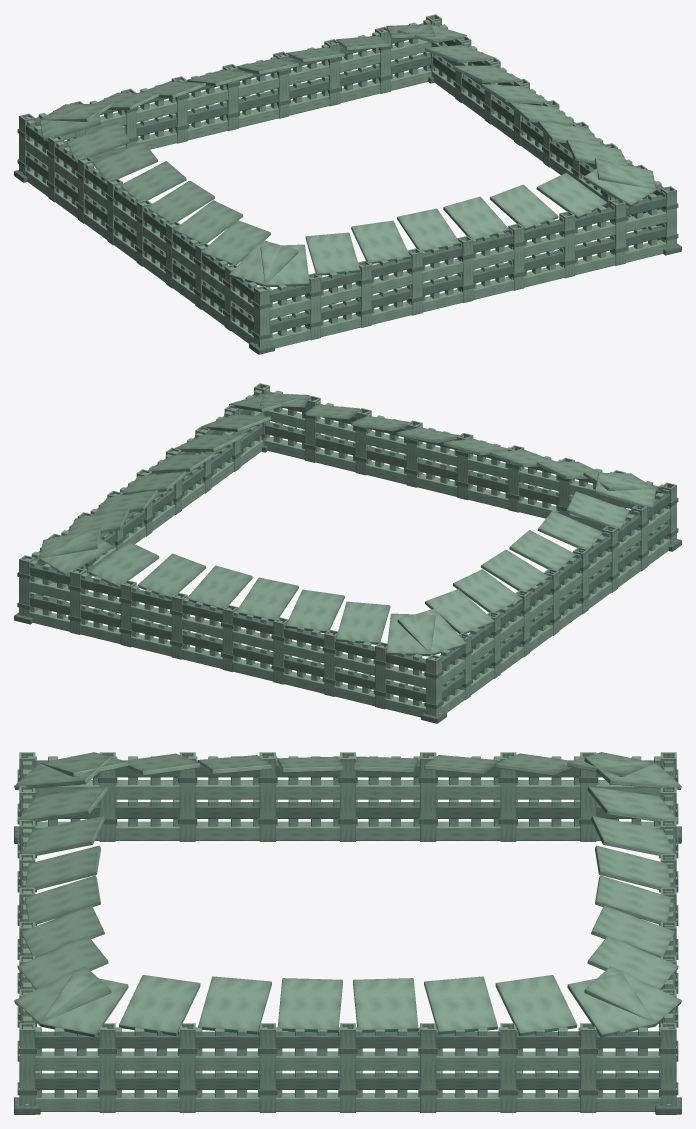
3 renders of one model, top to bottom at view 1: azimuth 30°, elevation 25°; view 2: azimuth 150°, elevation 25°; view 3: azimuth 270°, elevation 25°, orthographic. The views are drawn at different scales.
Parts seen in each view (by area): view 1: Crown alloy petal 0-1, Crown alloy petal 0-2, Crown alloy petal 0-3, Crown alloy petal 0-4, Crown alloy petal 3-6, Crown alloy petal 0-5, Crown alloy petal 0-6, Crown alloy petal 3-5, Crown alloy petal 3-4, Crown alloy petal 0-0, Crown alloy petal 3-3, Crown alloy petal 3-7 (+59 smaller); view 2: Crown alloy petal 2-6, Crown alloy petal 2-5, Crown alloy petal 2-4, Crown alloy petal 2-3, Crown alloy petal 3-1, Crown alloy petal 2-1, Crown alloy petal 2-2, Crown alloy petal 3-2, Crown alloy petal 3-3, Crown alloy petal 2-7, Crown alloy petal 3-4, Crown alloy petal 3-5 (+59 smaller); view 3: Crown alloy petal 1-1, Crown alloy petal 1-6, Crown alloy petal 1-5, Crown alloy petal 1-2, Crown alloy petal 1-4, Crown alloy petal 1-3, Crown alloy petal 1-7, Crown alloy petal 1-0, Crown alloy petal 0-6, Crown alloy petal 2-1, Crown alloy petal 2-2, Crown alloy petal 0-5 (+86 smaller).
Boxes of the visible parts, bbox=[...] form: Crown alloy petal 0-1: bbox=[305, 232, 359, 275]; Crown alloy petal 0-2: bbox=[351, 220, 410, 263]; Crown alloy petal 0-3: bbox=[397, 208, 459, 252]; Crown alloy petal 0-4: bbox=[443, 196, 509, 240]; Crown alloy petal 3-6: bbox=[201, 220, 270, 264]; Crown alloy petal 0-5: bbox=[490, 184, 558, 230]; Crown alloy petal 0-6: bbox=[536, 172, 607, 218]; Crown alloy petal 3-5: bbox=[174, 200, 243, 243]; Crown alloy petal 3-4: bbox=[147, 180, 214, 222]; Crown alloy petal 0-0: bbox=[260, 244, 309, 287]; Crown alloy petal 3-3: bbox=[120, 161, 186, 201]; Crown alloy petal 3-7: bbox=[229, 240, 298, 285]; Crown alloy petal 2-6: bbox=[336, 601, 390, 644]; Crown alloy petal 2-5: bbox=[285, 589, 344, 633]; Crown alloy petal 2-4: bbox=[236, 577, 298, 621]; Crown alloy petal 2-3: bbox=[187, 565, 252, 610]; Crown alloy petal 3-1: bbox=[425, 589, 494, 633]; Crown alloy petal 2-1: bbox=[88, 541, 159, 587]; Crown alloy petal 2-2: bbox=[137, 553, 205, 599]; Crown alloy petal 3-2: bbox=[452, 569, 521, 612]; Crown alloy petal 3-3: bbox=[481, 549, 549, 591]; Crown alloy petal 2-7: bbox=[386, 613, 435, 656]; Crown alloy petal 3-4: bbox=[509, 530, 575, 570]; Crown alloy petal 3-5: bbox=[537, 510, 602, 550]; Crown alloy petal 1-1: bbox=[119, 975, 200, 1035]; Crown alloy petal 1-6: bbox=[495, 975, 576, 1035]; Crown alloy petal 1-5: bbox=[424, 976, 497, 1034]; Crown alloy petal 1-2: bbox=[198, 976, 271, 1034]; Crown alloy petal 1-4: bbox=[353, 978, 418, 1032]; Crown alloy petal 1-3: bbox=[277, 978, 342, 1032]; Crown alloy petal 1-7: bbox=[567, 973, 655, 1037]; Crown alloy petal 1-0: bbox=[40, 973, 128, 1037]; Crown alloy petal 0-6: bbox=[17, 936, 108, 989]; Crown alloy petal 2-1: bbox=[587, 936, 678, 989]; Crown alloy petal 2-2: bbox=[591, 905, 674, 957]; Crown alloy petal 0-5: bbox=[21, 905, 104, 957].
Size of the model in its own units: 3.75 by 0.6257 by 3.75.
2 materials, 2 textured.
